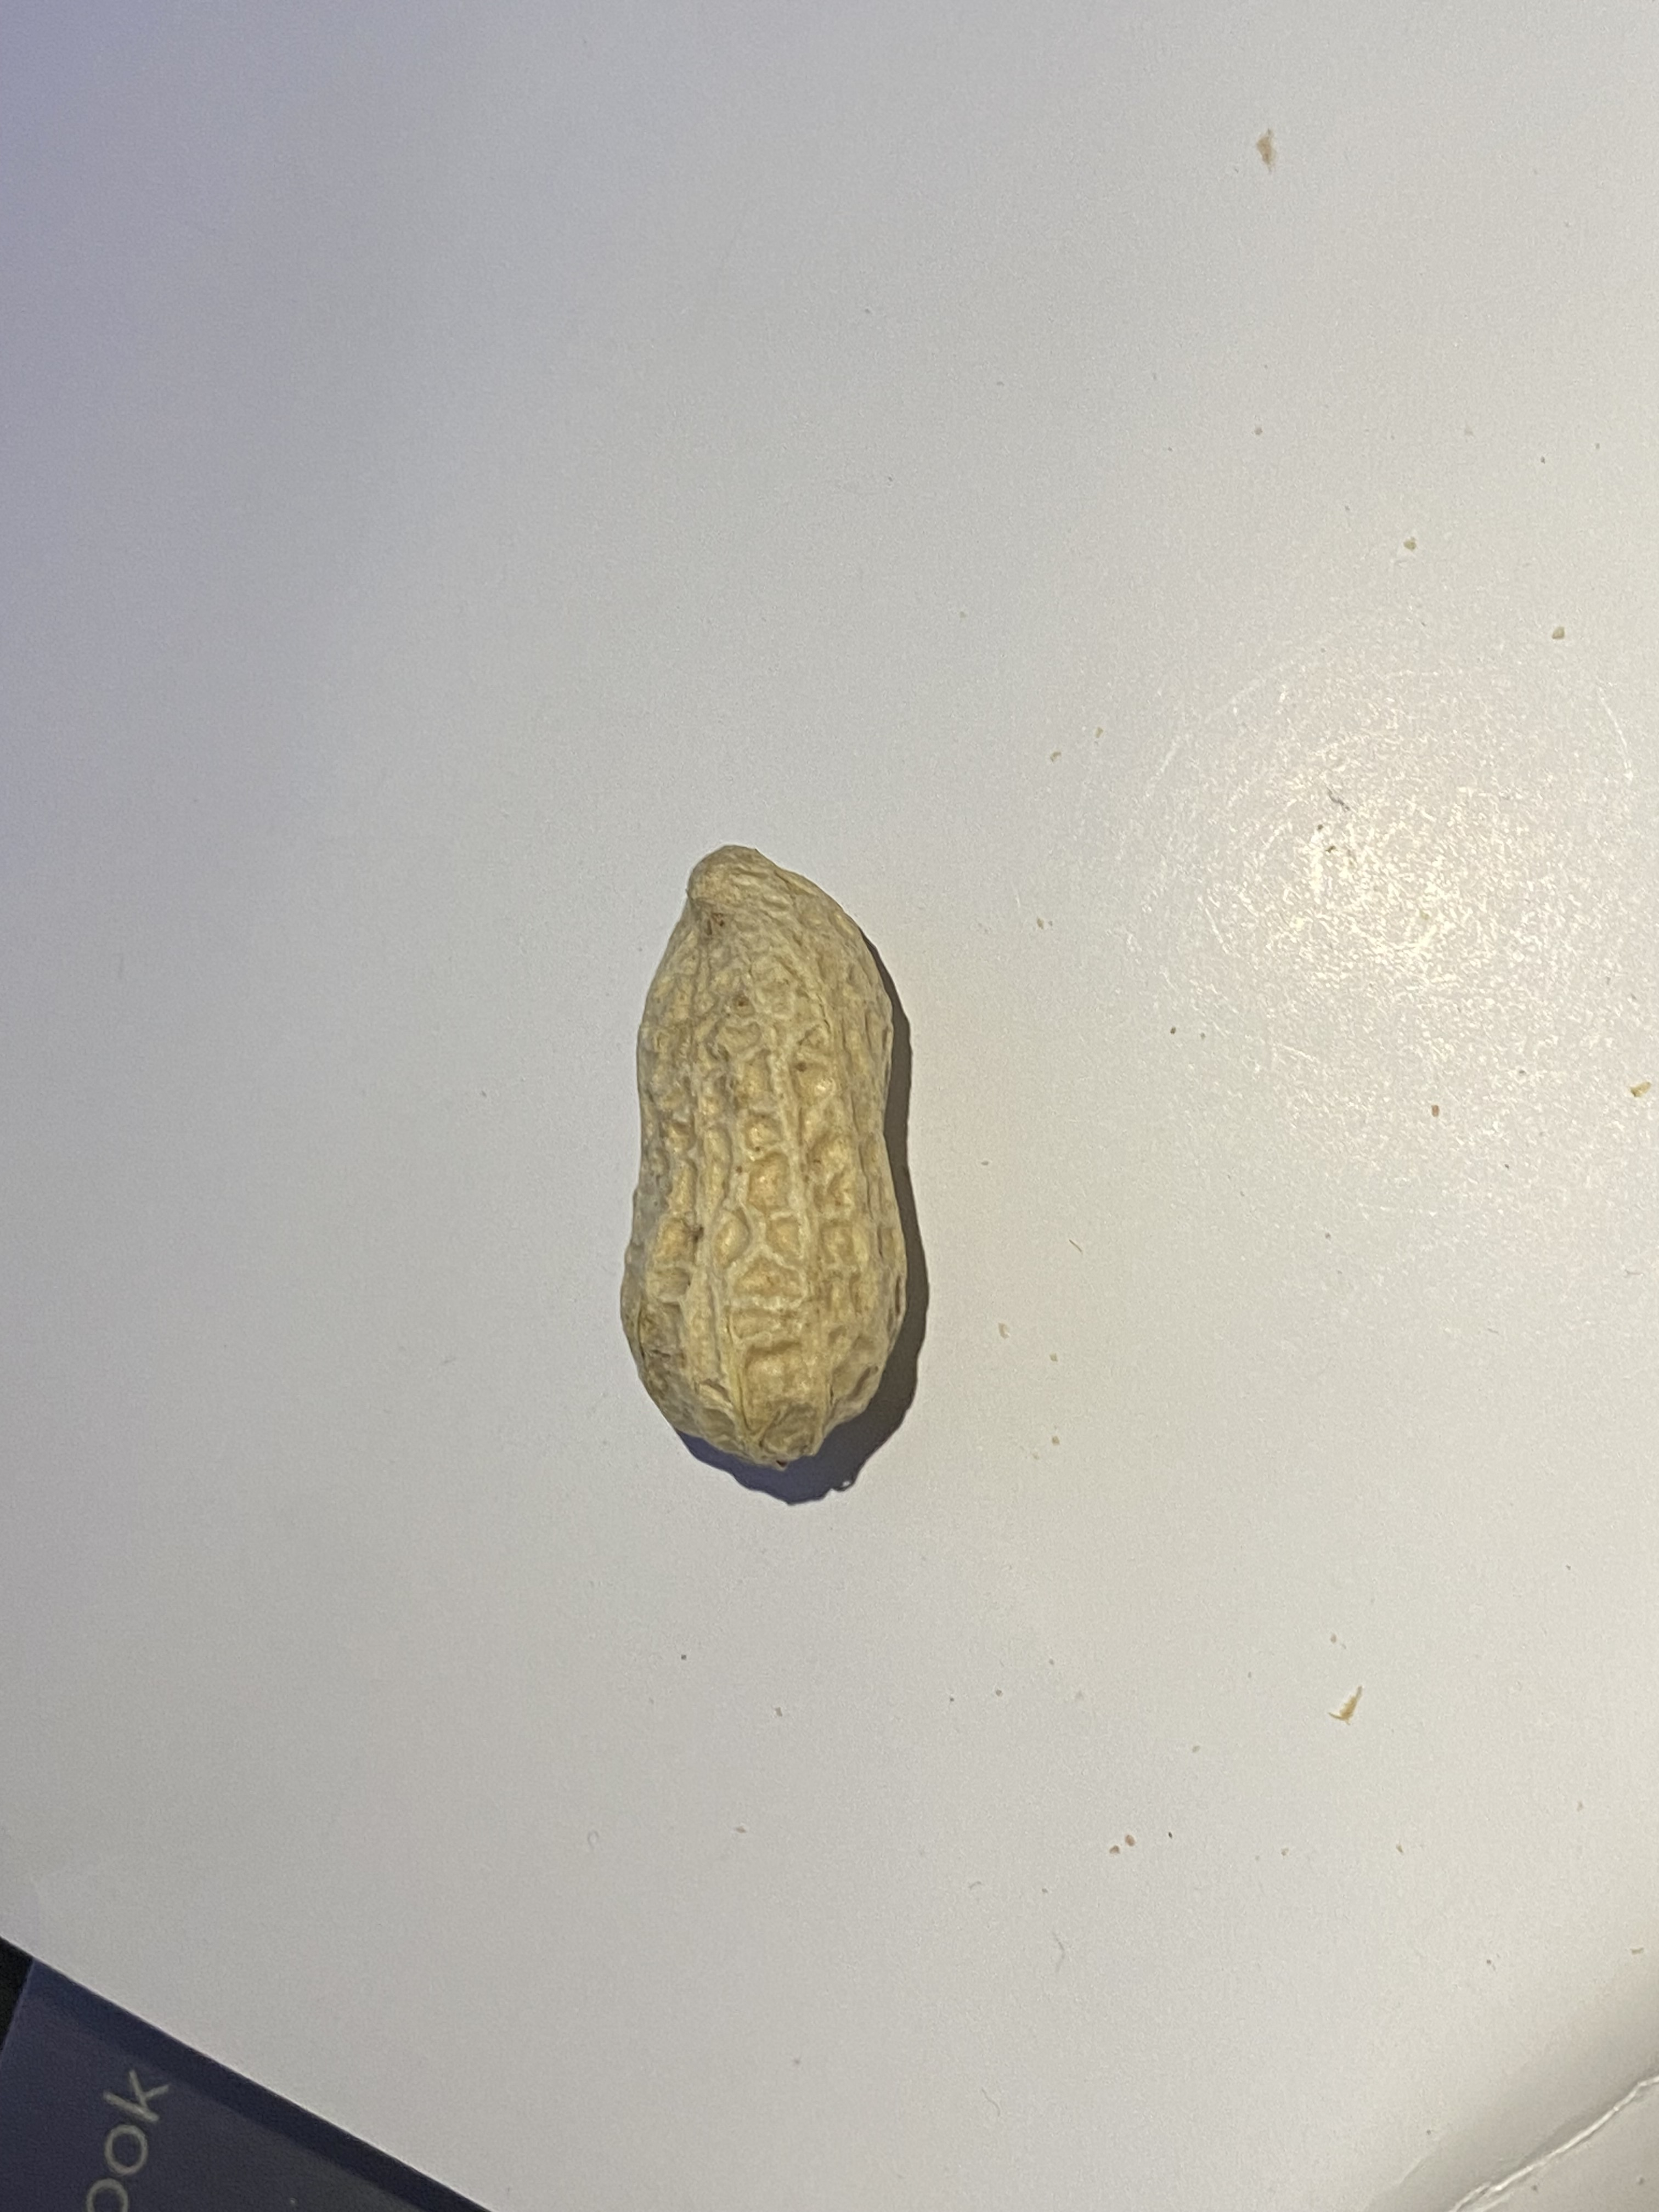kacang2: (601, 812, 969, 1493)
